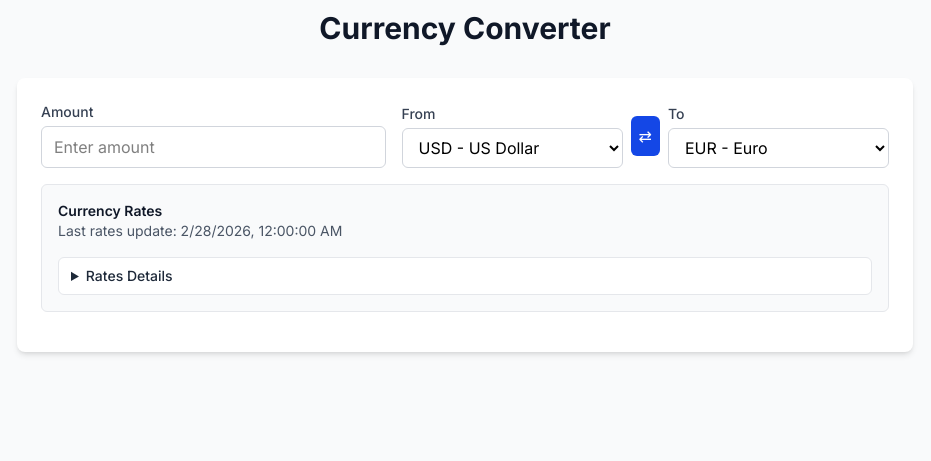
Scenario: CurrencyConverter currency selection behavior › shows refresh button only when amount is greater than zero
Expected: the button "Refresh Rates" is not shown
Type "10" into the number field labelled "Amount" at (213, 147), box x1=41 y1=126 x2=386 y2=168
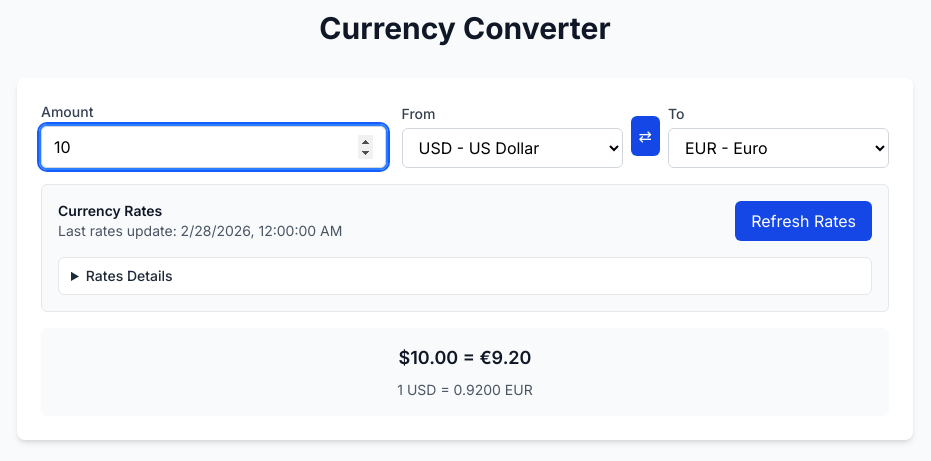
Expected: the button "Refresh Rates" is shown, x1=735 y1=201 x2=872 y2=241
